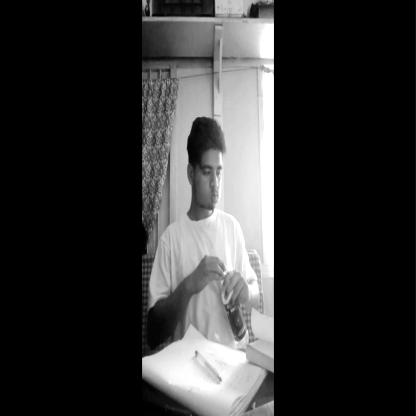Distracted: (188, 118, 226, 219)
